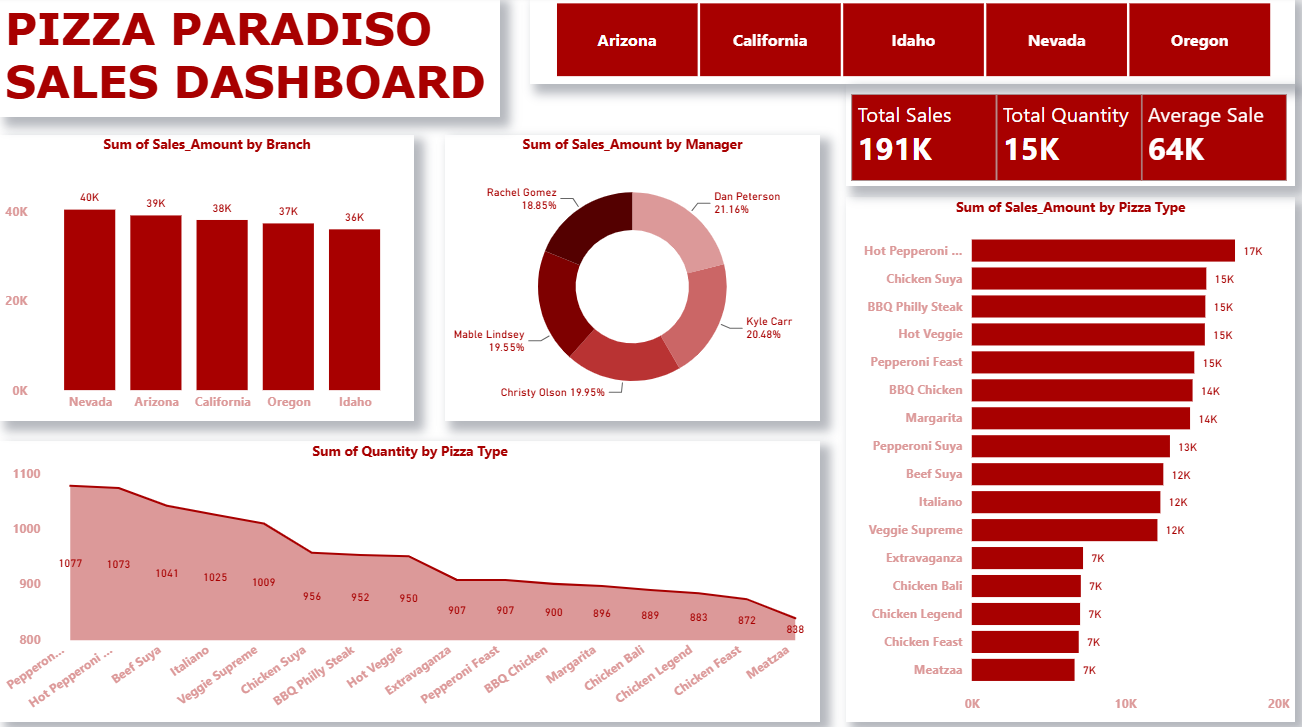

This screenshot's page, from the dashboard's own definition file:
{"tool":"powerbi","page":{"name":"Page 1","canvas":[1280,720],"ordinal":0},"visuals":[{"type":"clusteredColumnChart","fields":{"Category":["Sheet1.Branch"],"Y":["Sum(Sheet1.Sales_Amount)"]},"box":[0,135.7,404.8,280],"z":0},{"type":"textbox","box":[0,0,489.1,118.6],"z":1000},{"type":"clusteredBarChart","fields":{"Category":["Sheet1.Pizza Type"],"Y":["Sum(Sheet1.Sales_Amount)"]},"box":[827.9,196.9,439,513.6],"z":2000},{"type":"donutChart","fields":{"Category":["Sheet1.Manager"],"Y":["Sum(Sheet1.Sales_Amount)"]},"box":[435.3,135.7,366.8,280],"z":3000},{"type":"stackedAreaChart","fields":{"Category":["Sheet1.Pizza Type"],"Y":["Sum(Sheet1.Quantity)"]},"box":[0,435.3,802.2,275.1],"z":4000},{"type":"slicer","fields":{"Values":["Sheet1.Branch"]},"box":[518.5,0,748.4,85.6],"z":5000},{"type":"cardVisual","fields":{"Data":["Sum(Sheet1.Sales_Amount)","Sum(Sheet1.Quantity)","Sheet1.Sum of Sales_Amount average per Price"]},"box":[827.9,85.6,439,100.3],"z":6000}]}

Visuals, with their boxes in screenshot pixels (x1, y1, x2, y2), scaled from the page's 1280x720 canvas onto the 1302x727 screenshot:
clusteredColumnChart - Sheet1.Branch x Sum(Sheet1.Sales_Amount): <box>0,137,412,420</box>
textbox: <box>0,0,498,120</box>
clusteredBarChart - Sheet1.Pizza Type x Sum(Sheet1.Sales_Amount): <box>842,199,1289,717</box>
donutChart - Sheet1.Manager x Sum(Sheet1.Sales_Amount): <box>443,137,816,420</box>
stackedAreaChart - Sheet1.Pizza Type x Sum(Sheet1.Quantity): <box>0,440,816,717</box>
slicer - Sheet1.Branch: <box>527,0,1289,86</box>
cardVisual - Sum(Sheet1.Sales_Amount) x Sum(Sheet1.Quantity): <box>842,86,1289,188</box>
